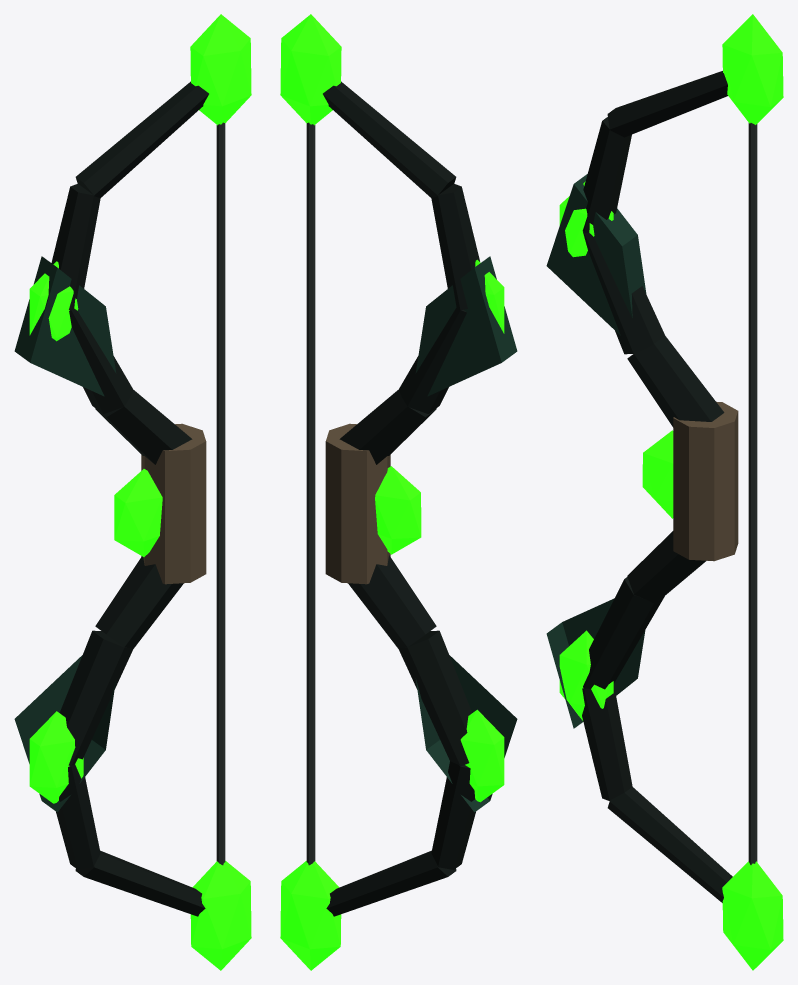
File: hex_archer_bow.glb
3 views of the same model, side by side, from view 1: azimuth 30°, elevation 25°; view 2: azimuth 150°, elevation 25°; view 3: azimuth 330°, elevation 25° (orthographic).
Visible parts, largest first — view 1: HexArcherBow; view 2: HexArcherBow; view 3: HexArcherBow.
Part boxes in pixels (box(x1,y1,x2,y2)): HexArcherBow: box(14, 14, 251, 970); HexArcherBow: box(280, 14, 517, 970); HexArcherBow: box(546, 14, 783, 970).
Bounding box in the file's own units: 0.3297 × 1.32 × 0.0839.
